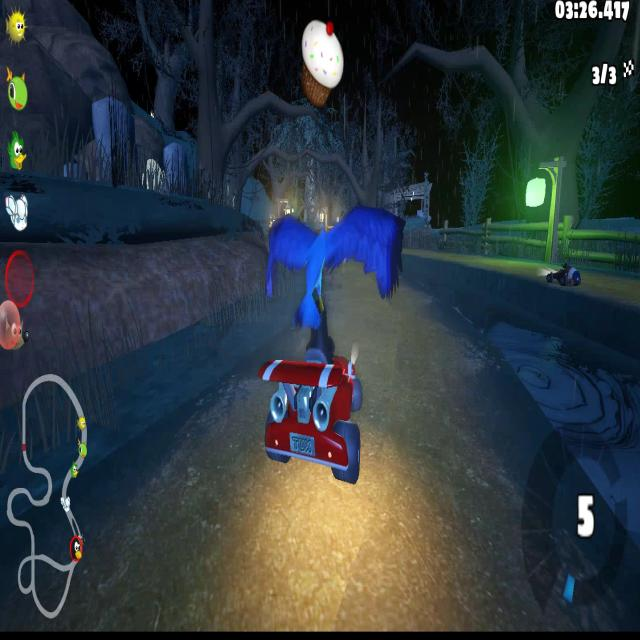enemy_kart: (542, 261, 586, 294)
player_kart: (262, 339, 364, 488)
